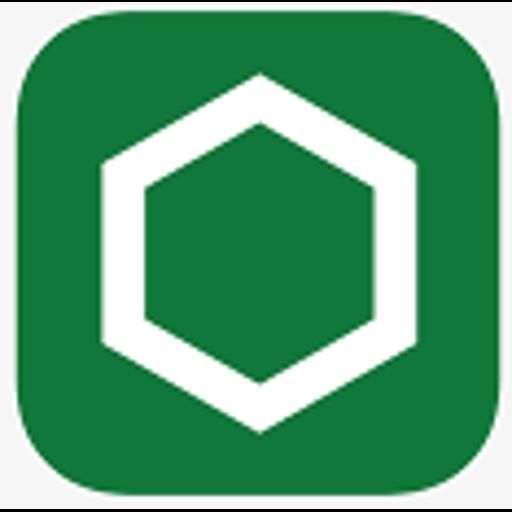Desjardins: (0, 2, 512, 509)
